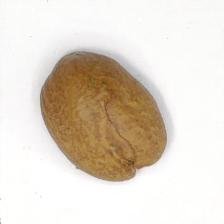NG: (100, 98, 154, 182)
